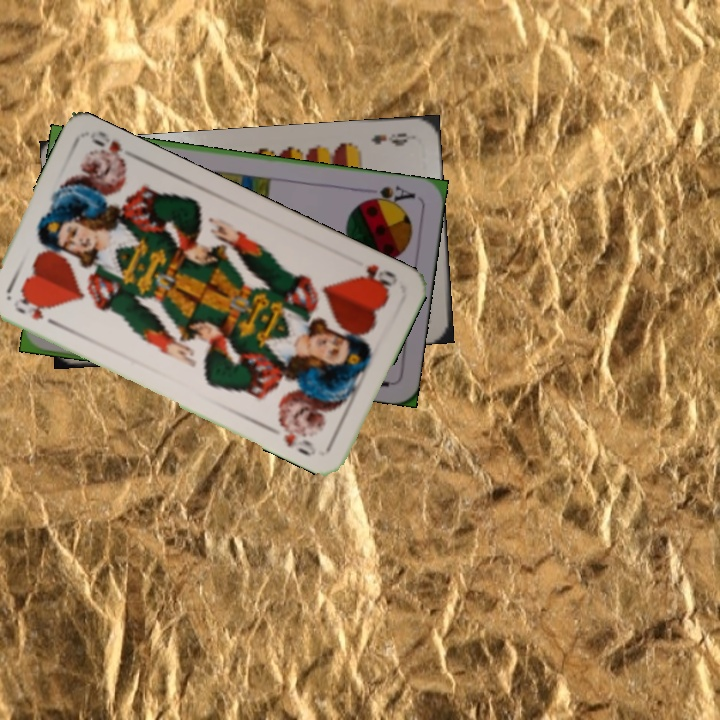E9: (367, 129, 410, 148)
HO: (9, 295, 62, 330), (355, 260, 400, 293)
SA: (359, 182, 418, 209)
